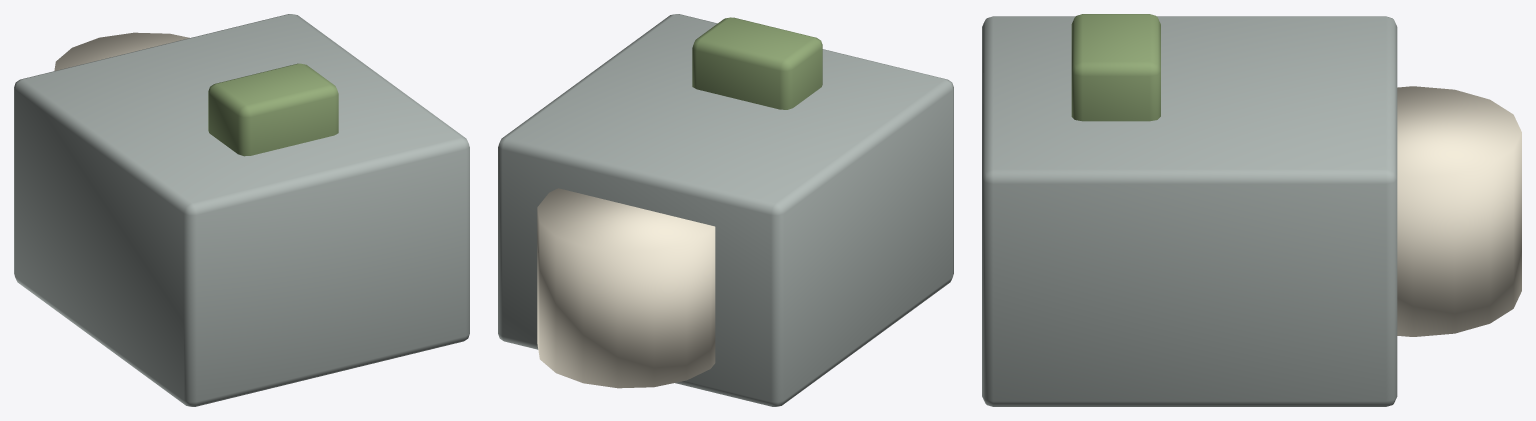
File: equipment_cheese_maker.glb
The picture shows the model from 3 angles, left to right: view 1: azimuth 30°, elevation 25°; view 2: azimuth 150°, elevation 25°; view 3: azimuth 270°, elevation 25°; orthographic projection. The views are drawn at different scales.
Visible parts, largest first — view 1: Machine, Output, Tank; view 2: Machine, Tank, Output; view 3: Machine, Tank, Output.
Part boxes in pixels (x1,y1,x2,y2): Machine: (14, 14, 469, 406); Output: (208, 63, 338, 156); Tank: (54, 32, 189, 70); Machine: (498, 14, 953, 406); Tank: (537, 188, 715, 388); Output: (692, 17, 822, 109); Machine: (982, 16, 1397, 406); Tank: (1397, 86, 1521, 336); Output: (1071, 14, 1160, 121).
Size of the model in its own units: 1.2 by 1.01 by 1.69.
